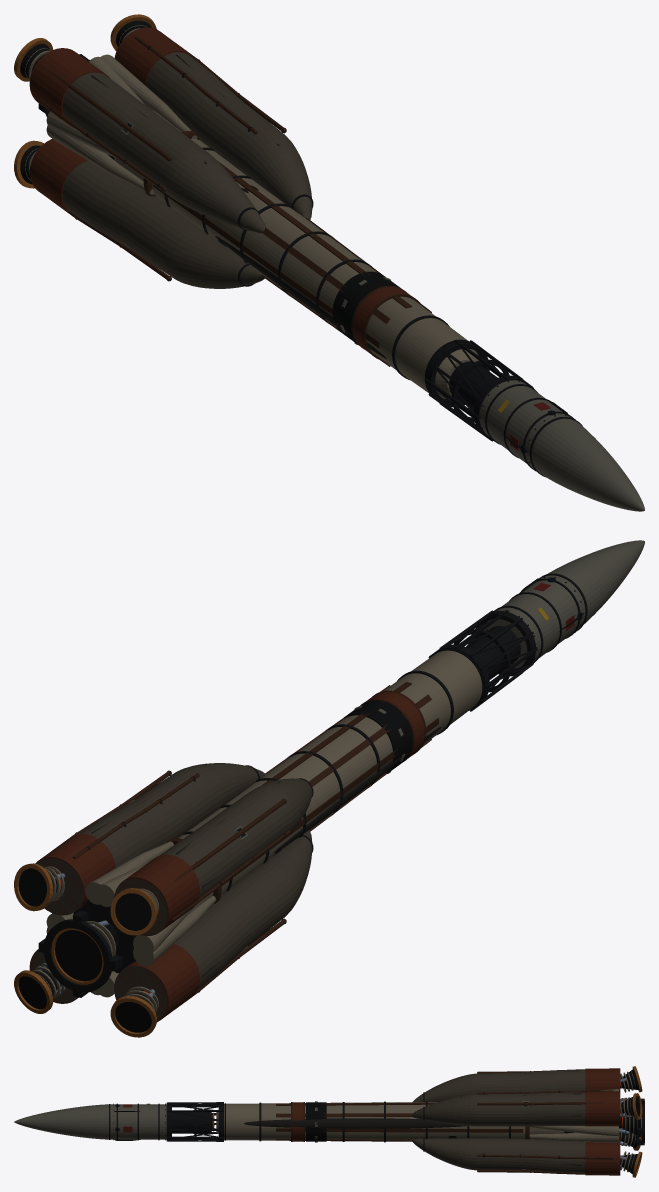
Rendered from rocket_rig.obj.
3 views of the same model, one above another, from view 1: azimuth 30°, elevation 25°; view 2: azimuth 150°, elevation 25°; view 3: azimuth 270°, elevation 25° (orthographic). The views are drawn at different scales.
Parts seen in each view (by area): view 1: rk_bst0_body, rk_fillet0_-1, rk_band_txt0, rk_bst0_skirt, rk_bay_beam0, rk_band_edge13.11, rk_bay, rk_bst0_seam0, rk_eng_aux3, rk_eng_aux0, rk_eng_aux2; view 2: rk_bst0_body, rk_fillet0_-1, rk_bay_beam0, rk_bst0_skirt, rk_band_txt0, rk_band_edge13.11, rk_eng_main, rk_bay, rk_eng_aux0, rk_eng_aux2, rk_eng_aux3, rk_eng_aux1 (+1 smaller); view 3: rk_bst0_body, rk_fillet0_-1, rk_band_txt0, rk_bst0_skirt, rk_bay_beam0, rk_band_edge13.11, rk_bst0_seam0, rk_bay, rk_eng_aux2, rk_eng_aux1, rk_eng_aux3, rk_eng_main (+2 smaller).
Boxes of the visible parts, x1,y1,x2,y2 form: rk_bst0_body: [62, 52, 312, 288]; rk_fillet0_-1: [46, 54, 478, 399]; rk_band_txt0: [120, 95, 644, 511]; rk_bst0_skirt: [29, 27, 411, 352]; rk_bay_beam0: [38, 46, 582, 477]; rk_band_edge13.11: [36, 36, 431, 366]; rk_bay: [107, 109, 568, 451]; rk_bst0_seam0: [65, 54, 386, 358]; rk_eng_aux3: [14, 38, 53, 81]; rk_eng_aux0: [14, 140, 43, 188]; rk_eng_aux2: [110, 14, 156, 50]; rk_bst0_body: [30, 763, 312, 1020]; rk_fillet0_-1: [46, 650, 482, 997]; rk_bay_beam0: [38, 573, 587, 997]; rk_bst0_skirt: [29, 691, 424, 1022]; rk_band_txt0: [129, 540, 644, 950]; rk_band_edge13.11: [72, 682, 438, 921]; rk_eng_main: [51, 920, 118, 984]; rk_bay: [73, 578, 582, 973]; rk_eng_aux0: [110, 986, 158, 1037]; rk_eng_aux2: [14, 863, 65, 911]; rk_eng_aux3: [110, 888, 158, 935]; rk_eng_aux1: [14, 963, 65, 1013]; rk_bst0_body: [412, 1069, 620, 1173]; rk_fillet0_-1: [216, 1089, 618, 1142]; rk_band_txt0: [14, 1101, 529, 1170]; rk_bst0_skirt: [292, 1068, 620, 1175]; rk_bay_beam0: [109, 1090, 644, 1158]; rk_band_edge13.11: [276, 1090, 613, 1159]; rk_bst0_seam0: [244, 1070, 581, 1165]; rk_bay: [114, 1102, 573, 1141]; rk_eng_aux2: [620, 1093, 642, 1119]; rk_eng_aux1: [620, 1151, 642, 1177]; rk_eng_aux3: [620, 1066, 642, 1092]; rk_eng_main: [619, 1113, 641, 1139].
Bounding box in the file's own units: 3.49 × 3.49 × 24.28.
